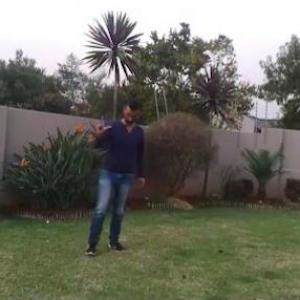land_hand: (94, 110, 113, 136)
